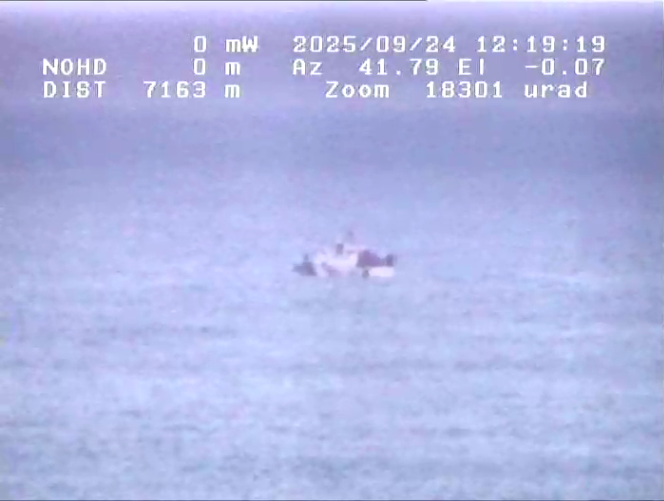PATROL_VESSEL: (280, 223, 418, 301)
